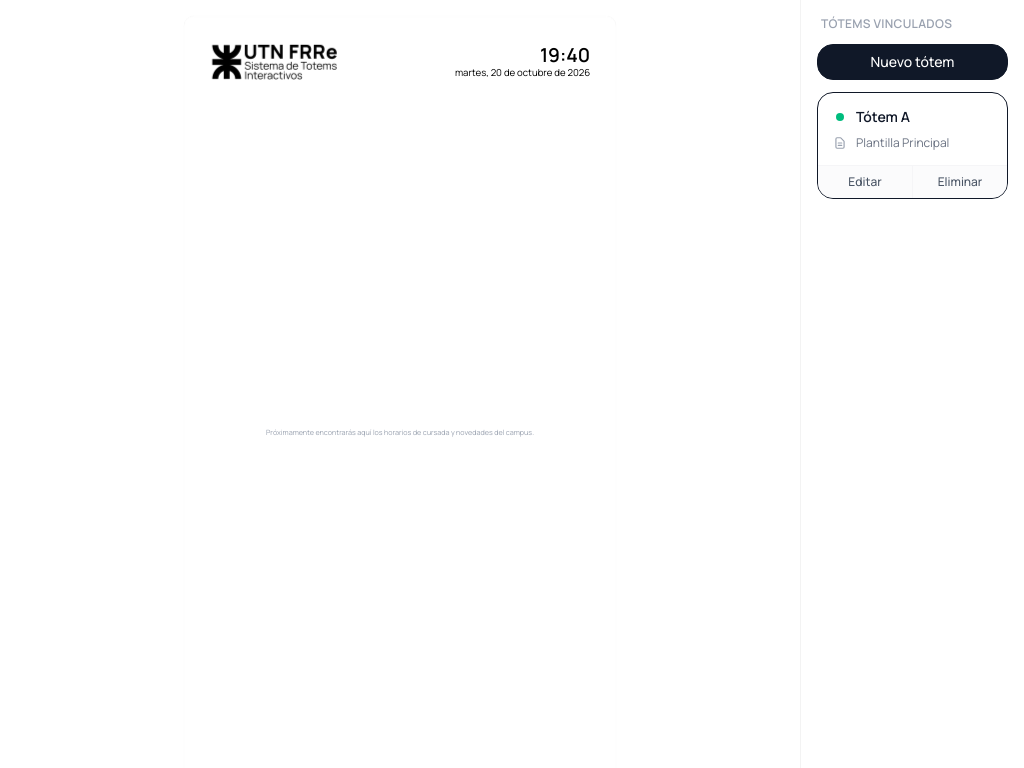
Home › abre el modal de edición con selector de plantilla
Step 1. Click the button titled "Editar" → (866, 182), box [818, 166, 913, 198]
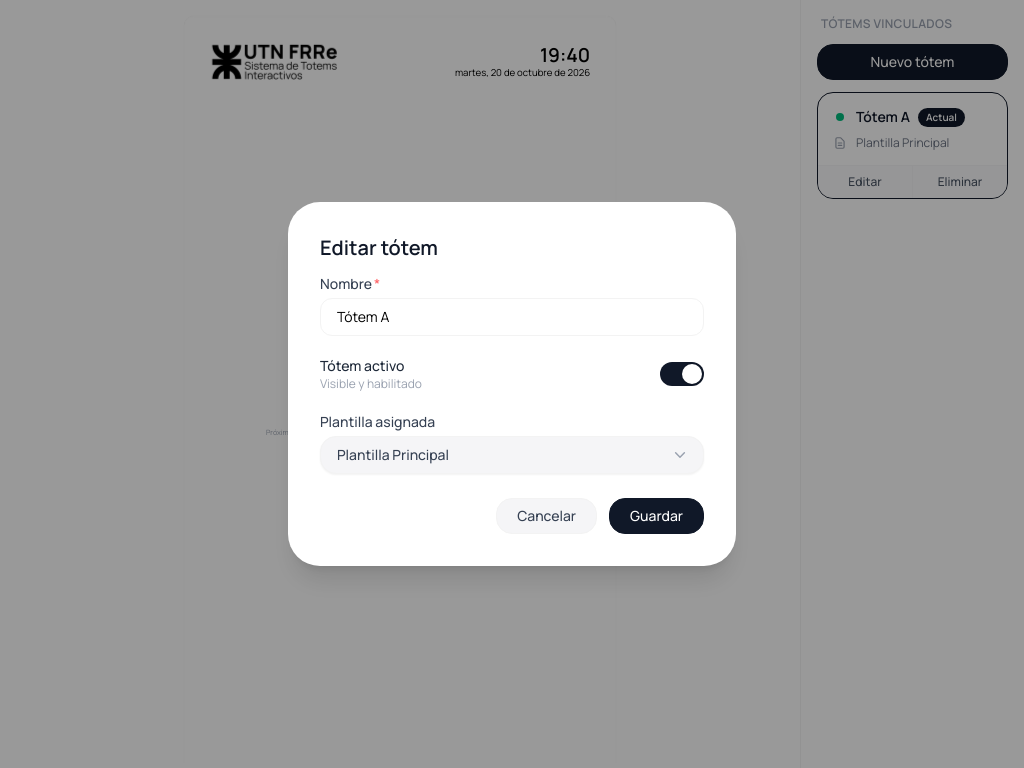
Expected: the heading "Editar tótem" is shown, [320, 234, 438, 261]
Expected: the dropdown named "Plantilla asignada" is shown, [320, 436, 704, 474]
Expected: the checkbox named "Tótem activo" is shown, [660, 362, 704, 386]
